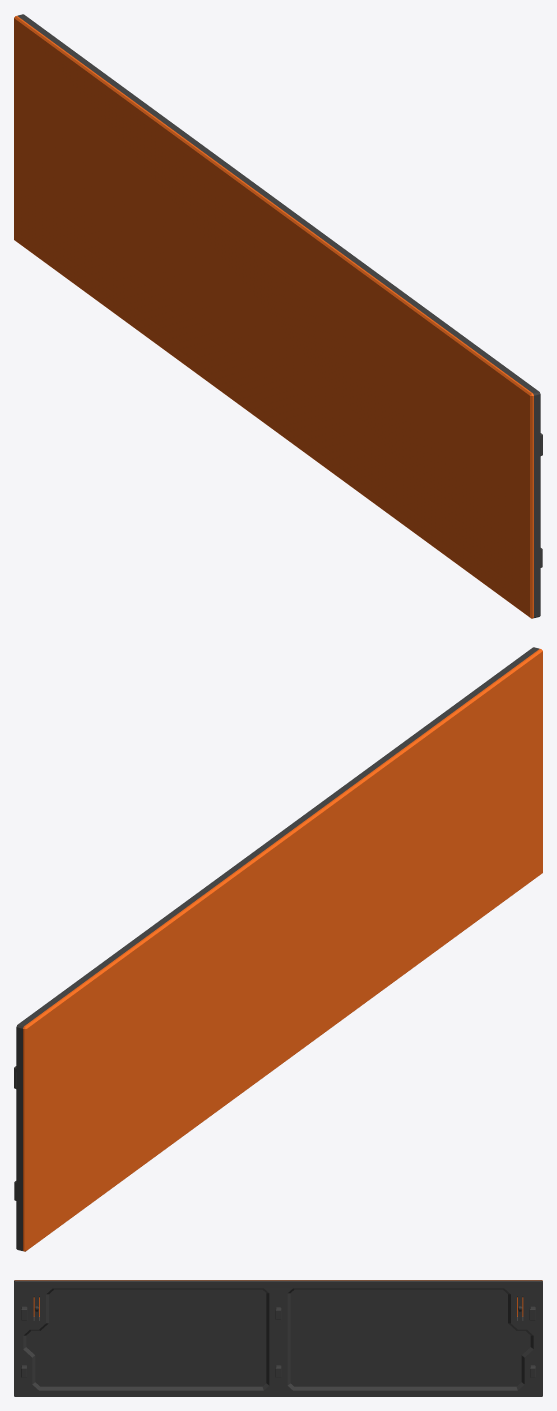
The model's file is SideCover_240-1H.lib.glb.
The picture shows the model from 3 angles, top to bottom: view 1: azimuth 30°, elevation 25°; view 2: azimuth 150°, elevation 25°; view 3: azimuth 270°, elevation 25°; orthographic projection. The views are drawn at different scales.
Visible parts, largest first — view 1: SideCover_240-1H; view 2: SideCover_240-1H; view 3: SideCover_240-1H.
Boxes of the visible parts, bbox=[...] form: SideCover_240-1H: bbox=[14, 14, 542, 618]; SideCover_240-1H: bbox=[14, 647, 542, 1251]; SideCover_240-1H: bbox=[14, 1280, 542, 1396].
Size of the model in its own units: 5.04 by 55.59 by 232.
